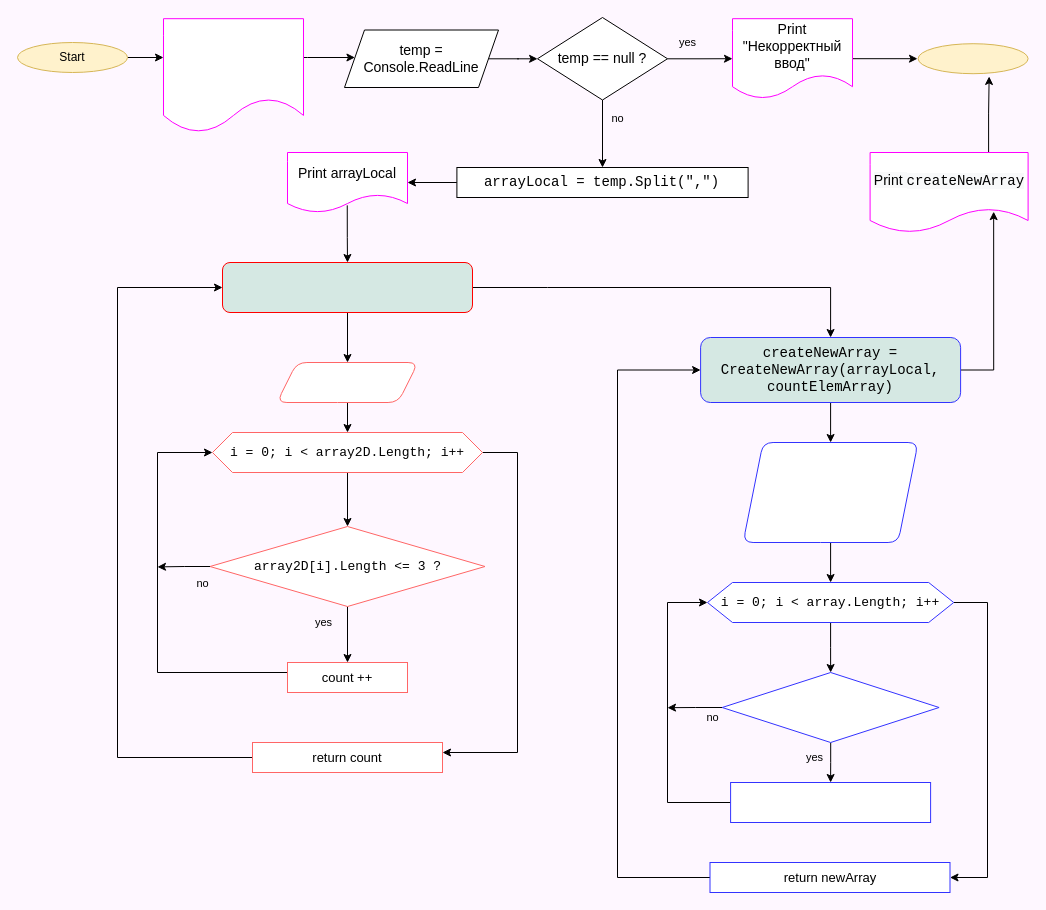
Some shapes in this 1046 by 910 pixel diagram are drawn without their labels. The centre of each missing label's shape, as x and y in pixels:
array2D; count = 0: point 347,382
array; coutnElements; newArray = new [ countElemArray]; j = 0: point 830,492
array[i].Length <= 3 ?: point 830,707
countElemArray = CountElementsArray(arrayLocal): point 347,287
Finish: point 972,58
newArray[j] = array[i] j++: point 830,802
Print " Введите элементы массива через запятую и нажмите Enter": point 233,75
